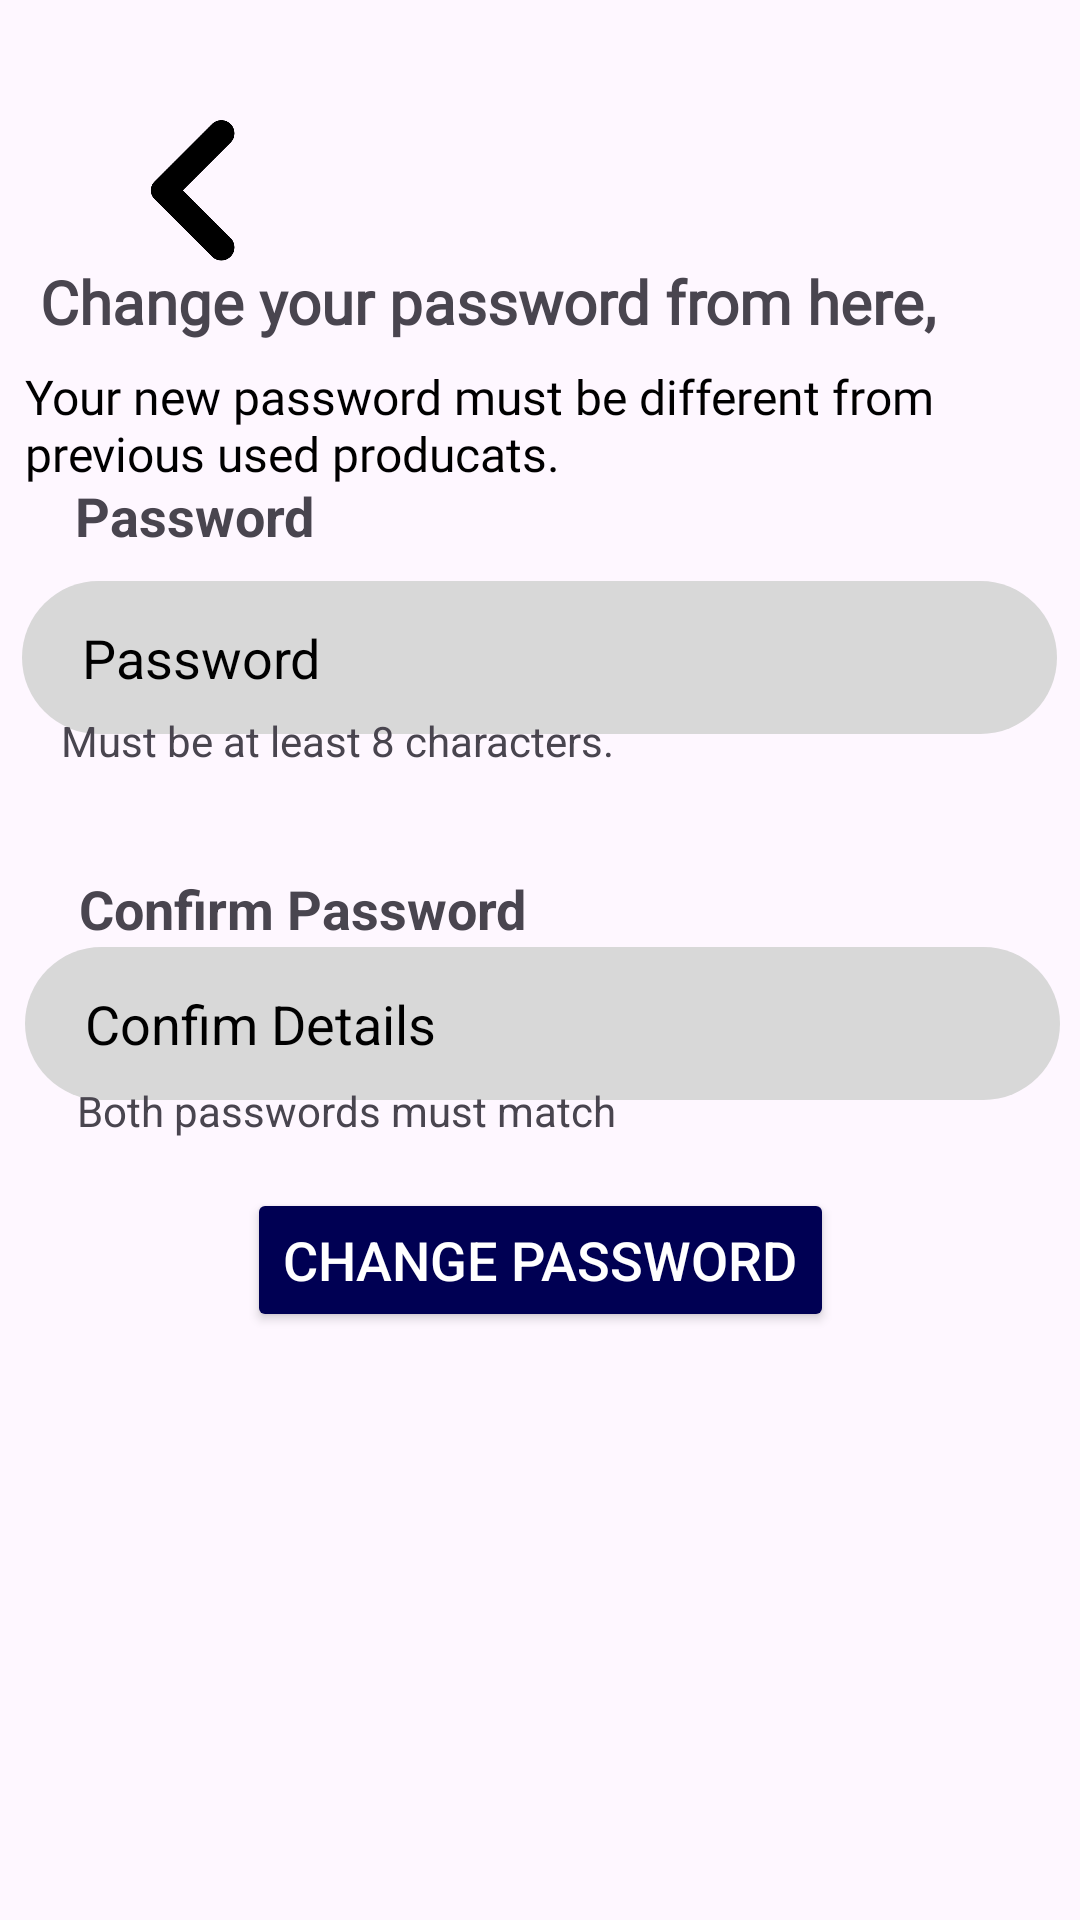

Icon click points for this 1080w x 1920h phone screenshot, format point (x, y):
back: point (193, 190)
